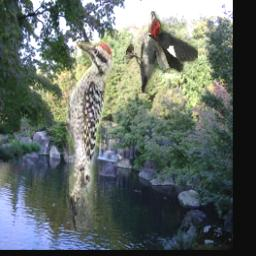Woodpecker: (66, 42, 112, 231), (126, 12, 198, 94)
